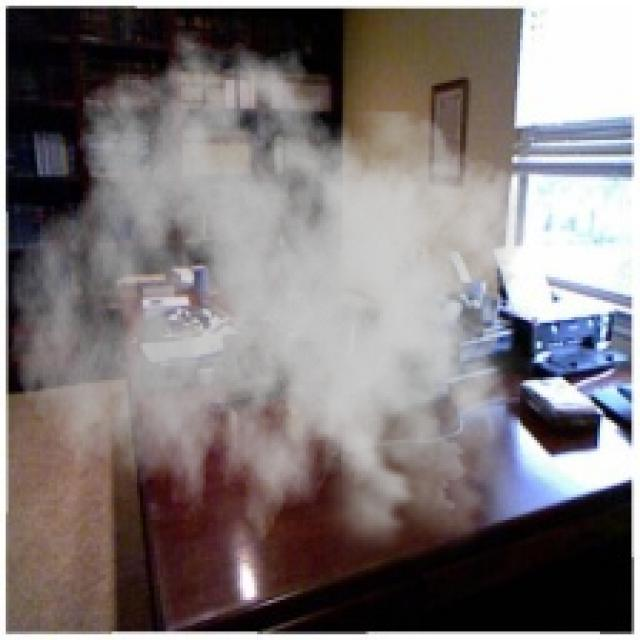smoke: (8, 29, 543, 577)
